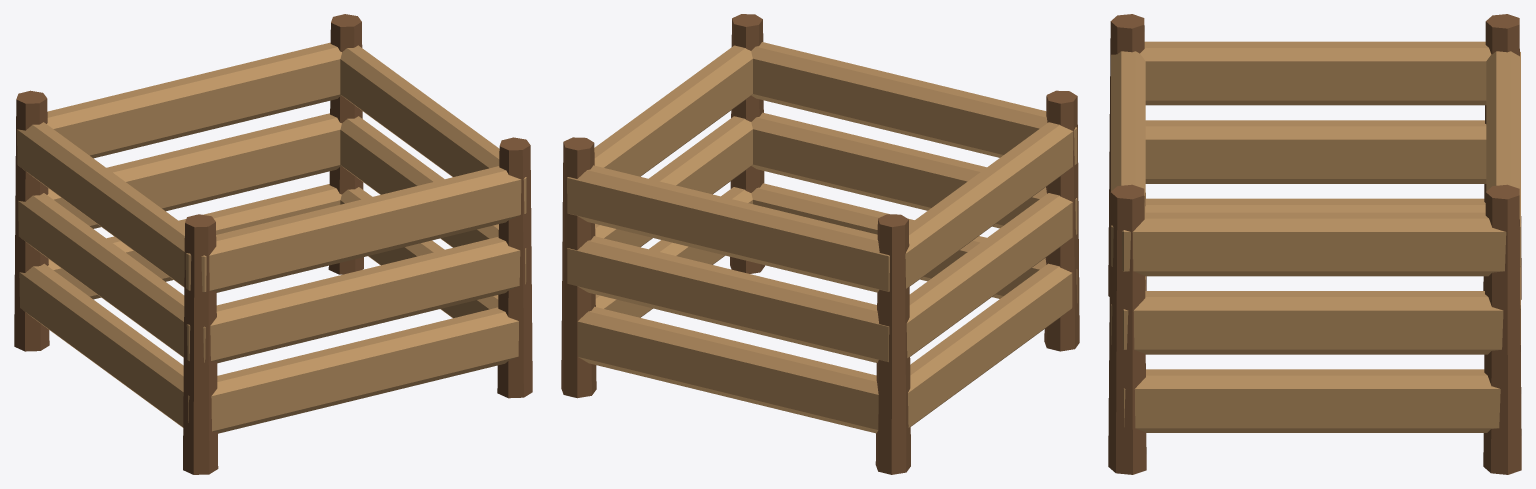
File: CC_CompostBin.fbx
The picture shows the model from 3 angles, left to right: view 1: azimuth 30°, elevation 25°; view 2: azimuth 150°, elevation 25°; view 3: azimuth 270°, elevation 25°; orthographic projection. The views are drawn at different scales.
Visible parts, largest first — view 1: Slat.008, Slat.004, Slat, Slat.009, Slat.005, Slat.010, Slat.006, Slat.002, Slat.011, Post.008, Post.010, Slat.007 (+4 smaller); view 2: Slat.009, Slat.005, Slat.001, Slat.008, Slat.004, Slat.010, Slat.006, Slat.002, Slat.011, Post.009, Post.011, Slat.007 (+4 smaller); view 3: Slat.011, Slat.007, Slat.003, Slat.010, Slat.006, Post.010, Post.011, Slat.002, Slat.008, Slat.009, Post.008, Post.009.
Part boxes in pixels (bbox=[...]): Slat.008: bbox=[201, 166, 526, 292]; Slat.004: bbox=[203, 236, 526, 363]; Slat: bbox=[211, 307, 518, 433]; Slat.009: bbox=[47, 42, 341, 158]; Slat.005: bbox=[47, 113, 341, 228]; Slat.010: bbox=[17, 122, 191, 290]; Slat.006: bbox=[18, 193, 190, 360]; Slat.002: bbox=[19, 263, 189, 427]; Slat.011: bbox=[340, 45, 499, 176]; Post.008: bbox=[183, 214, 218, 474]; Post.010: bbox=[497, 137, 532, 398]; Slat.007: bbox=[340, 116, 498, 247]; Slat.009: bbox=[567, 165, 889, 292]; Slat.005: bbox=[567, 236, 889, 362]; Slat.001: bbox=[577, 306, 878, 433]; Slat.008: bbox=[751, 42, 1047, 157]; Slat.004: bbox=[751, 112, 1046, 228]; Slat.010: bbox=[905, 122, 1077, 288]; Slat.006: bbox=[906, 193, 1077, 357]; Slat.002: bbox=[908, 263, 1077, 427]; Slat.011: bbox=[594, 45, 752, 176]; Post.009: bbox=[875, 214, 910, 474]; Post.011: bbox=[561, 137, 596, 398]; Slat.007: bbox=[595, 116, 752, 247]; Slat.011: bbox=[1122, 212, 1506, 276]; Slat.007: bbox=[1123, 291, 1503, 354]; Slat.003: bbox=[1123, 369, 1500, 432]; Slat.010: bbox=[1140, 41, 1491, 105]; Slat.006: bbox=[1145, 120, 1486, 183]; Post.010: bbox=[1108, 184, 1146, 474]; Post.011: bbox=[1483, 184, 1521, 474]; Slat.002: bbox=[1145, 198, 1485, 212]; Slat.008: bbox=[1111, 51, 1145, 266]; Slat.009: bbox=[1486, 51, 1520, 266]; Post.008: bbox=[1108, 14, 1146, 296]; Post.009: bbox=[1483, 14, 1521, 299].
Size of the model in its own units: 1.54 by 1.05 by 1.43.
